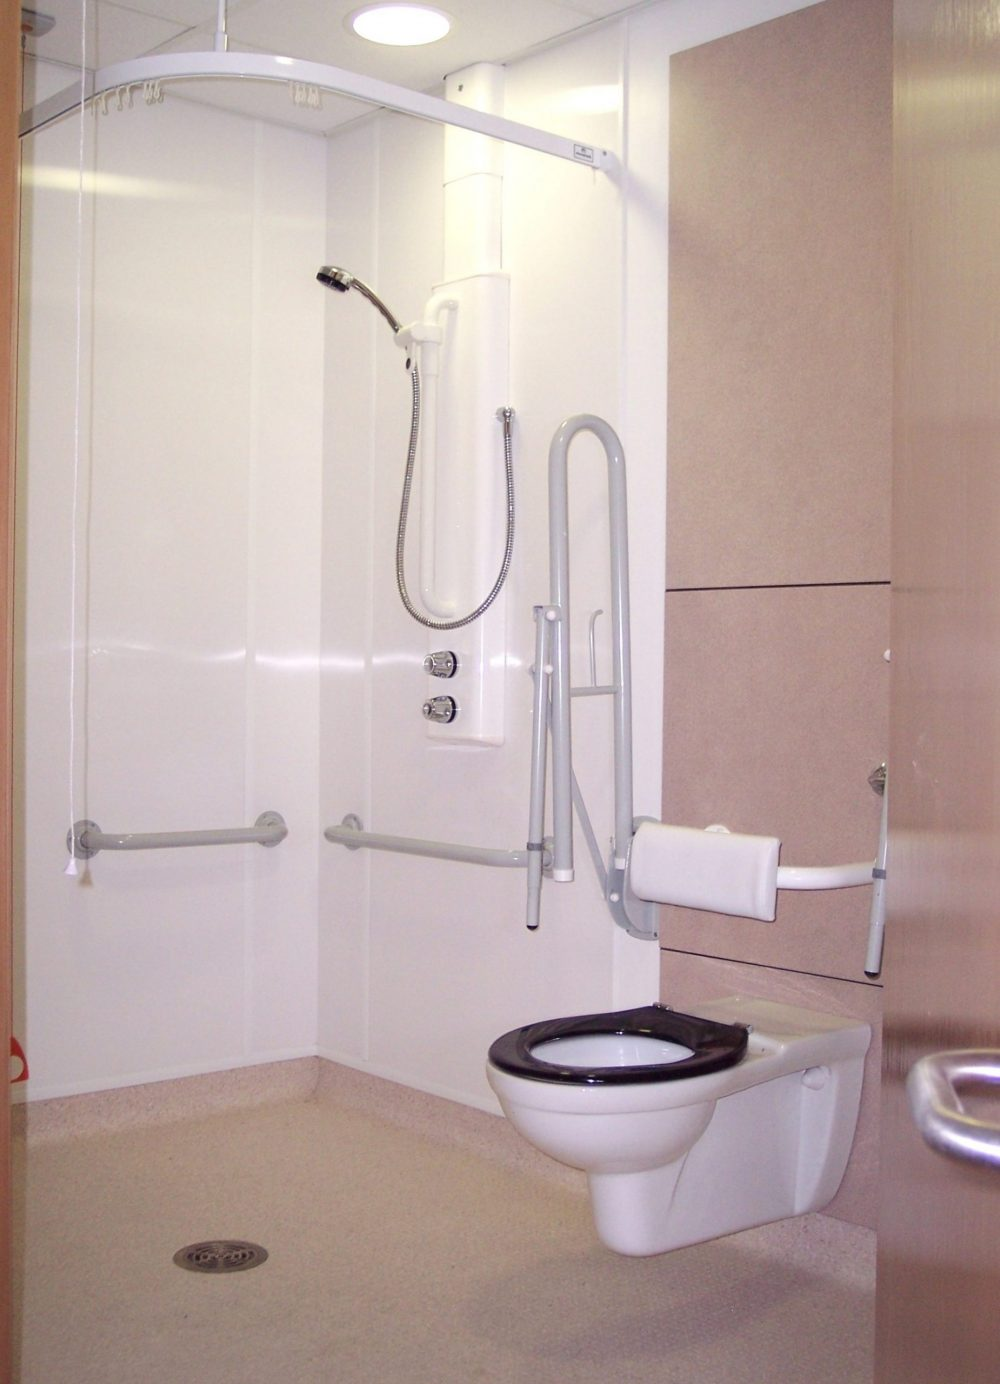restroom_assist_bar: (528, 412, 642, 902), (623, 819, 901, 908), (323, 818, 561, 876), (66, 813, 290, 861)
toilet: (485, 995, 871, 1174)
